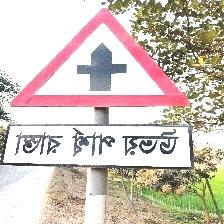Crossroad: (4, 4, 192, 168)
